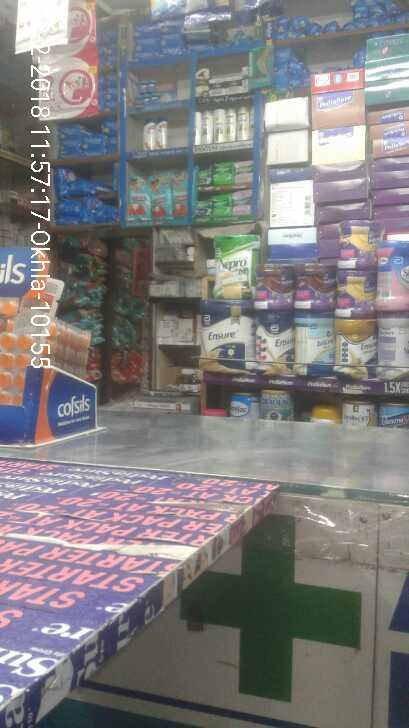vicks: (130, 78, 167, 111)
